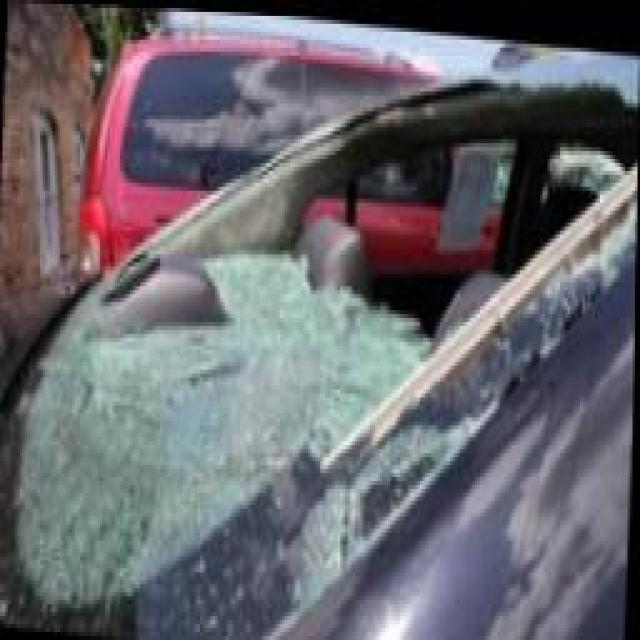replaceable: (35, 71, 622, 620)
